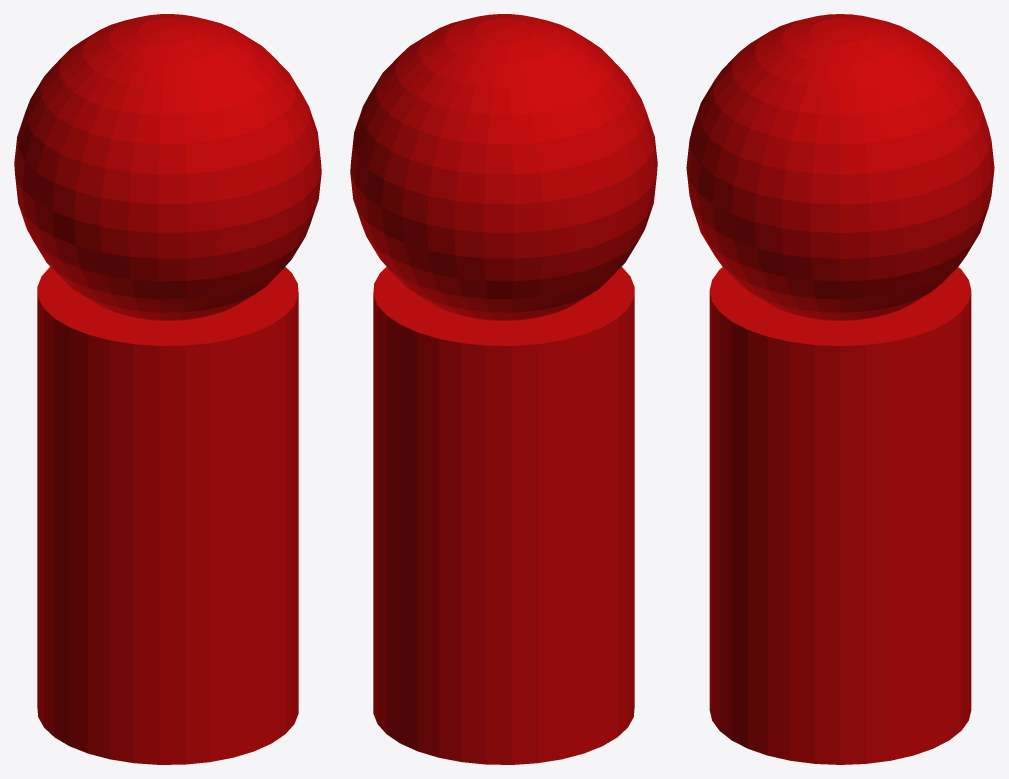
File: testRed4.dae
3 views of the same model, side by side, from view 1: azimuth 30°, elevation 25°; view 2: azimuth 150°, elevation 25°; view 3: azimuth 270°, elevation 25° (orthographic).
Visible parts, largest first — view 1: Sphere; view 2: Sphere; view 3: Sphere.
Part boxes in pixels (x1=…): Sphere: x1=14, y1=14, x2=321, y2=764; Sphere: x1=350, y1=14, x2=657, y2=764; Sphere: x1=686, y1=14, x2=994, y2=764.
Bounding box in the file's own units: 0.1 × 0.244 × 0.1.
